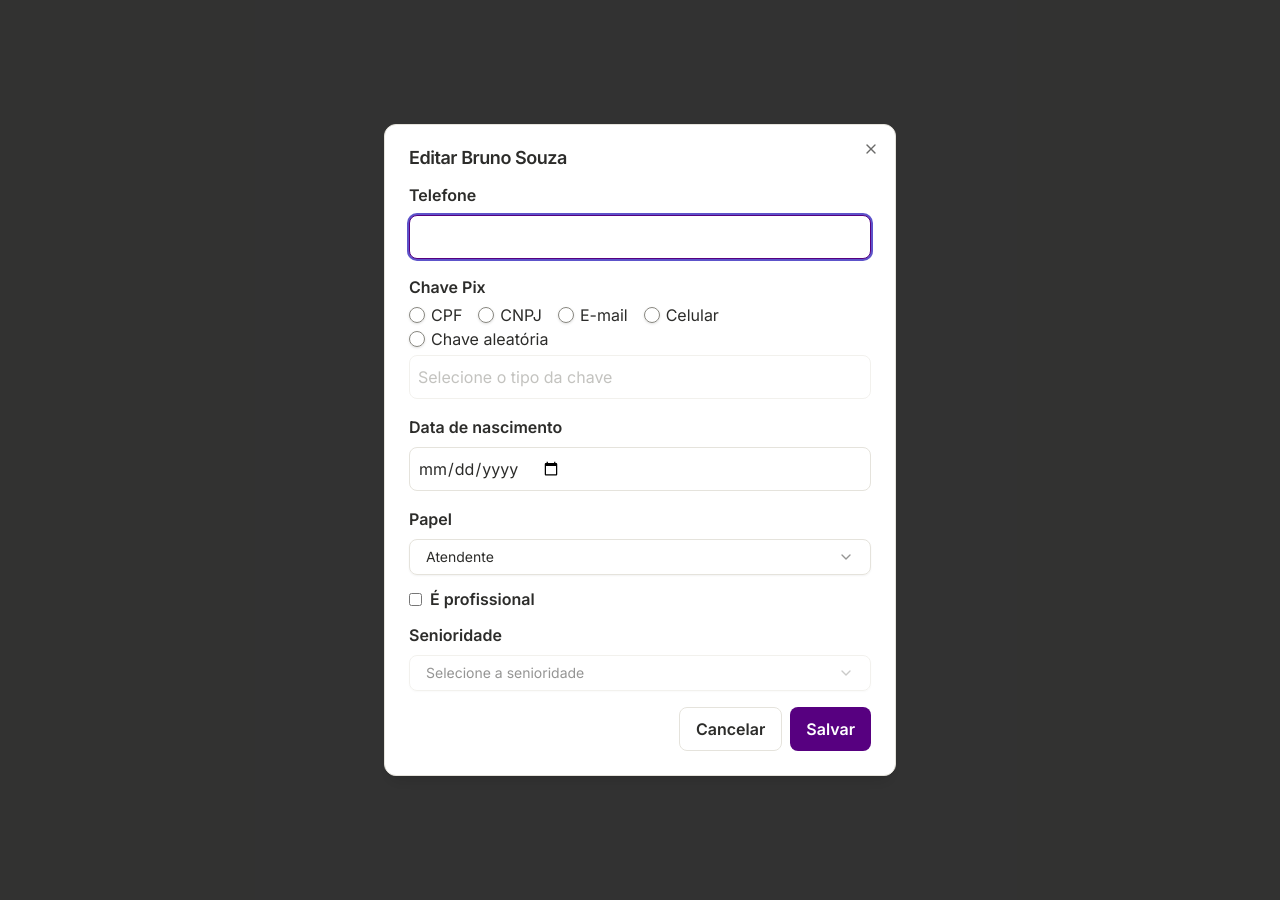
Test case: MemberEditDialog (contato e categorias) › rejects an invalid phone typed on a legacy member
Type "123" into the field labelled "Telefone" at coordinates (640, 237), box [409, 215, 871, 259]
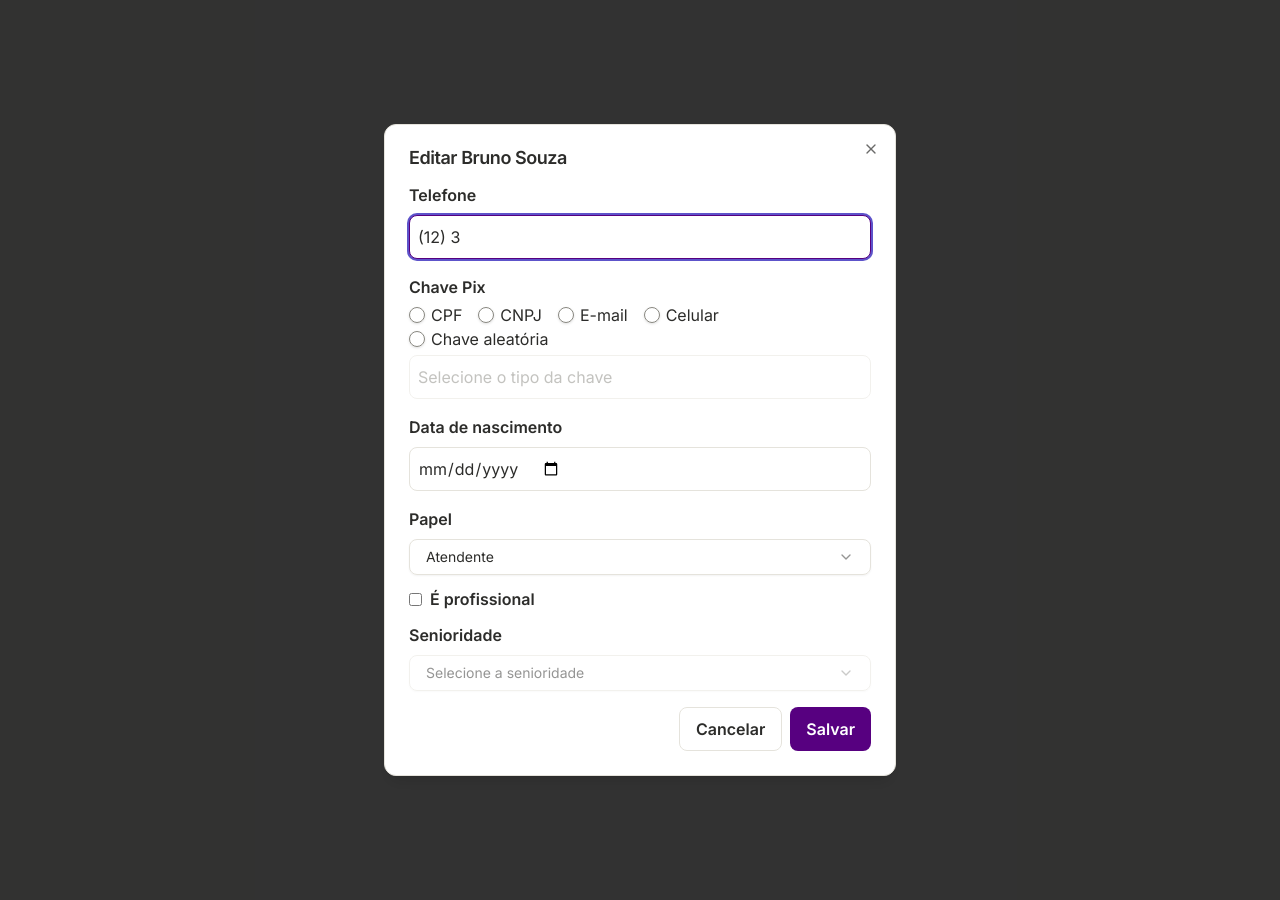
Click the button "Salvar" at coordinates (831, 729), box [790, 707, 871, 751]
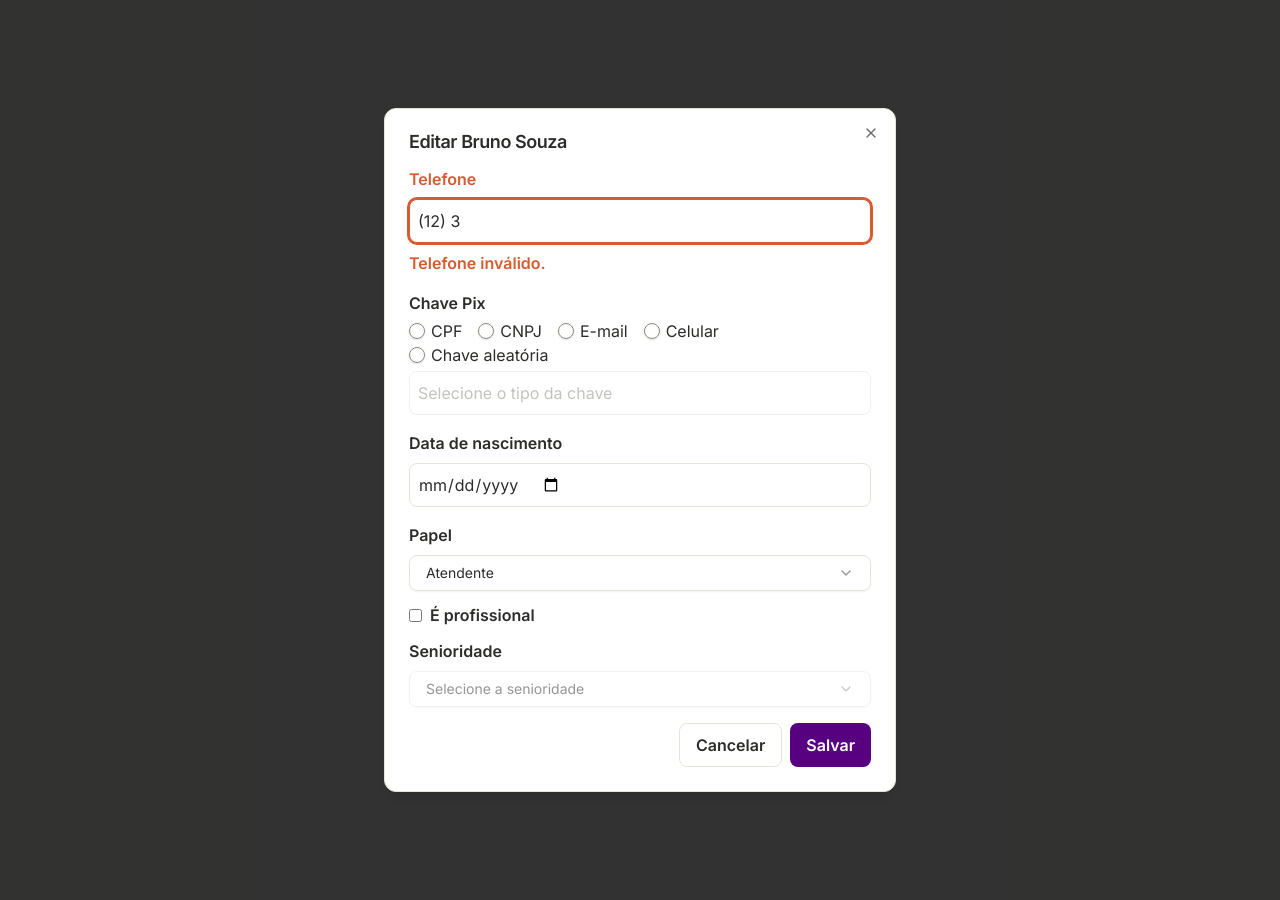
Expected: the text "Telefone inválido." is shown, [409, 253, 546, 273]
